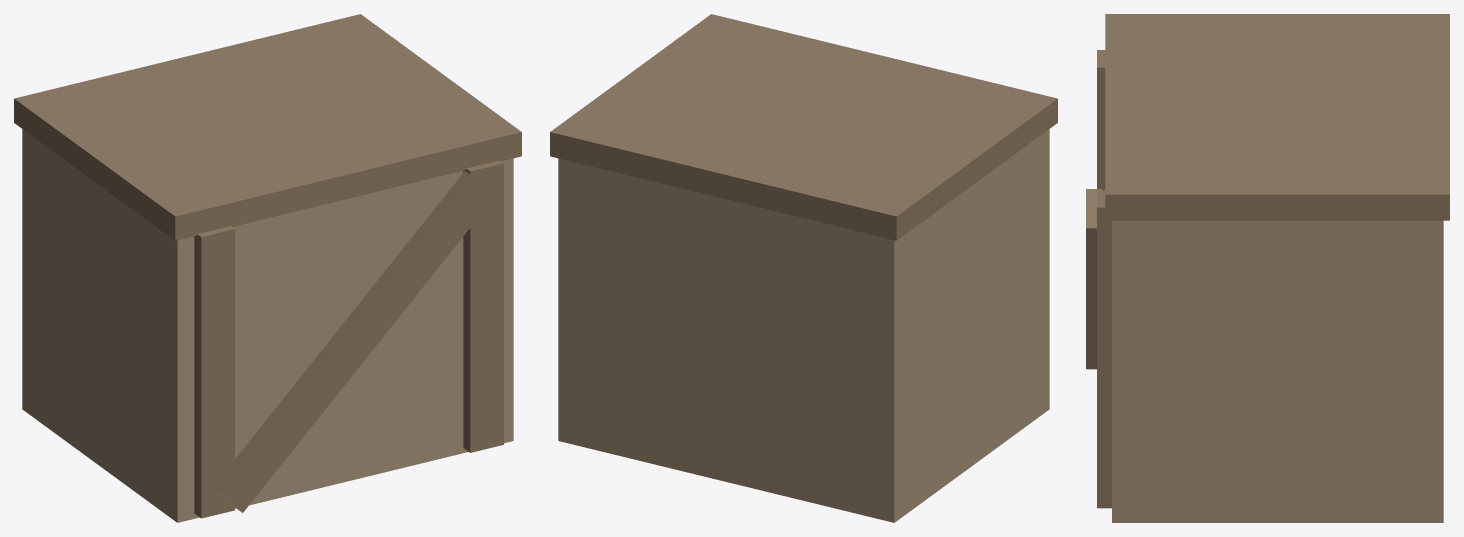
The model's file is crate.glb.
The picture shows the model from 3 angles, left to right: view 1: azimuth 30°, elevation 25°; view 2: azimuth 150°, elevation 25°; view 3: azimuth 270°, elevation 25°; orthographic projection. The views are drawn at different scales.
Parts seen in each view (by area): view 1: crate; view 2: crate; view 3: crate.
Boxes of the visible parts, bbox=[...] form: crate: bbox=[14, 14, 521, 522]; crate: bbox=[550, 14, 1057, 522]; crate: bbox=[1086, 14, 1449, 522].
Size of the model in its own units: 0.2233 by 0.1908 by 0.1902.
